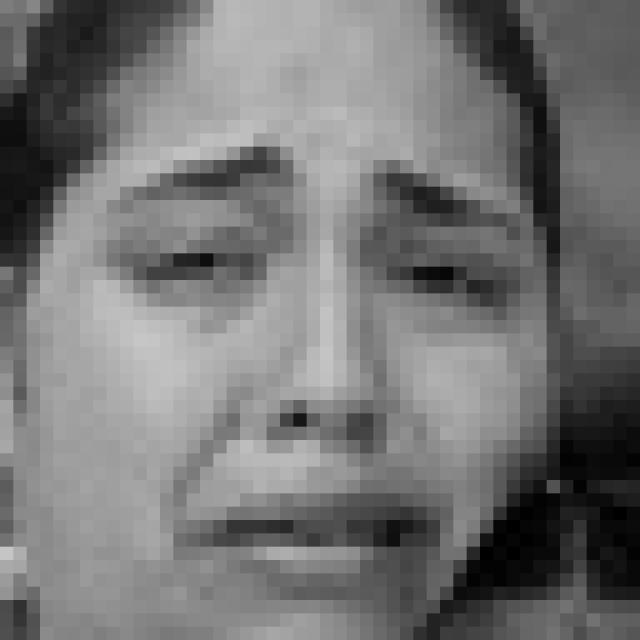sad: (110, 131, 531, 596)
